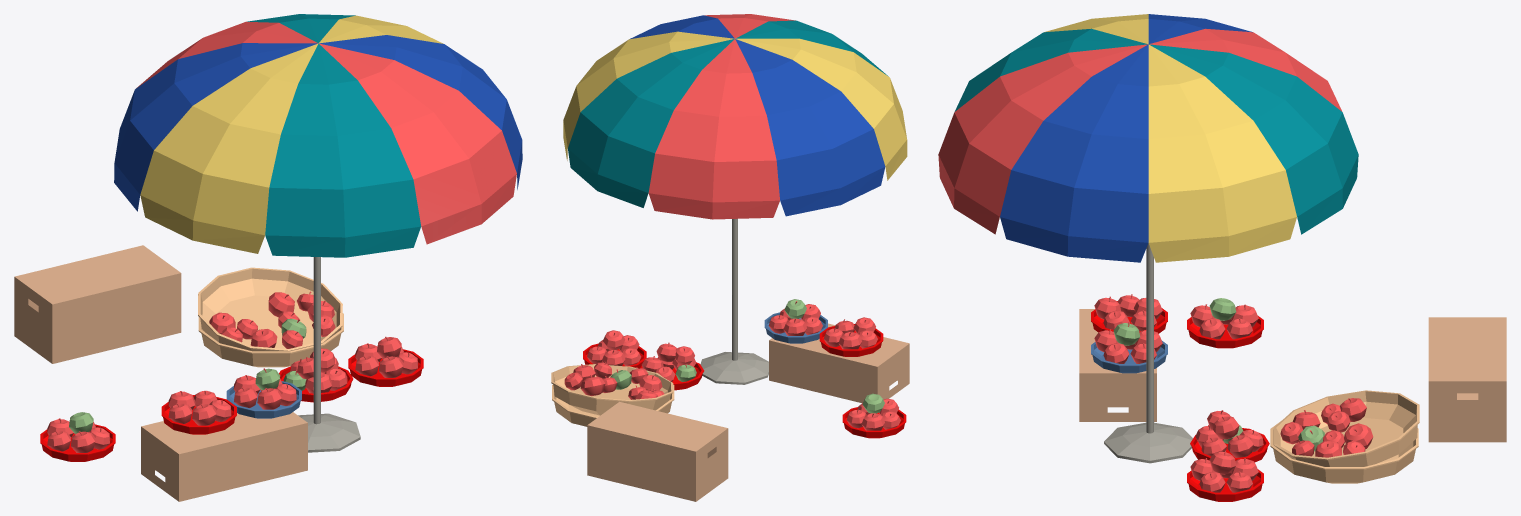
Rendered from parasolSet_01.fbx.
3 views of the same model, side by side, from view 1: azimuth 30°, elevation 25°; view 2: azimuth 150°, elevation 25°; view 3: azimuth 270°, elevation 25° (orthographic). The views are drawn at different scales.
Parts seen in each view (by area): view 1: parasol_pol, Box002, basketSet01, Box001, basketSet03, basketSet06, basketSet04, basketSet05, basketSet02; view 2: parasol_pol, Box002, Box001, basketSet01, basketSet06, basketSet04, basketSet05, basketSet02, basketSet03; view 3: parasol_pol, basketSet01, Box002, Box001, basketSet06, basketSet03, basketSet04, basketSet02, basketSet05.
Boxes of the visible parts, x1,y1,x2,y2 form: parasol_pol: [114, 14, 522, 452]; Box002: [14, 245, 181, 363]; basketSet01: [198, 267, 343, 367]; Box001: [141, 412, 307, 501]; basketSet03: [348, 336, 423, 386]; basketSet06: [40, 412, 115, 461]; basketSet04: [226, 368, 301, 418]; basketSet05: [161, 390, 236, 434]; basketSet02: [279, 348, 353, 402]; parasol_pol: [563, 14, 907, 384]; Box002: [587, 401, 728, 501]; Box001: [769, 323, 909, 403]; basketSet01: [551, 362, 674, 426]; basketSet06: [842, 393, 906, 438]; basketSet04: [764, 299, 827, 343]; basketSet05: [819, 317, 883, 356]; basketSet02: [640, 342, 704, 390]; basketSet03: [583, 330, 646, 368]; parasol_pol: [938, 14, 1358, 463]; basketSet01: [1270, 390, 1419, 483]; Box002: [1428, 317, 1506, 442]; Box001: [1079, 309, 1156, 421]; basketSet06: [1187, 298, 1263, 348]; basketSet03: [1187, 450, 1263, 501]; basketSet04: [1091, 322, 1167, 373]; basketSet02: [1190, 410, 1269, 462]; basketSet05: [1091, 294, 1167, 333].
Size of the model in its own units: 376 by 438 by 340.
